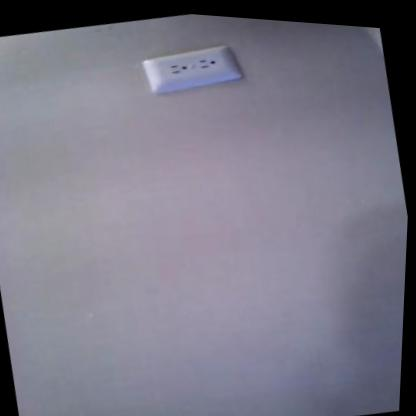OUTLET: (139, 37, 244, 99)
